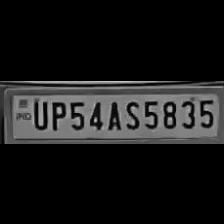3: (178, 96, 196, 128)
4: (86, 96, 104, 130)
5: (66, 96, 86, 130), (141, 96, 159, 130), (196, 95, 214, 129)
8: (160, 96, 178, 128)
A: (104, 96, 120, 130)
P: (47, 98, 65, 130)
S: (122, 96, 140, 130)
U: (30, 96, 48, 130)
